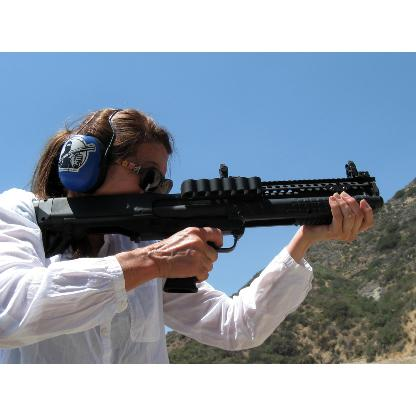gun: (20, 156, 398, 286)
